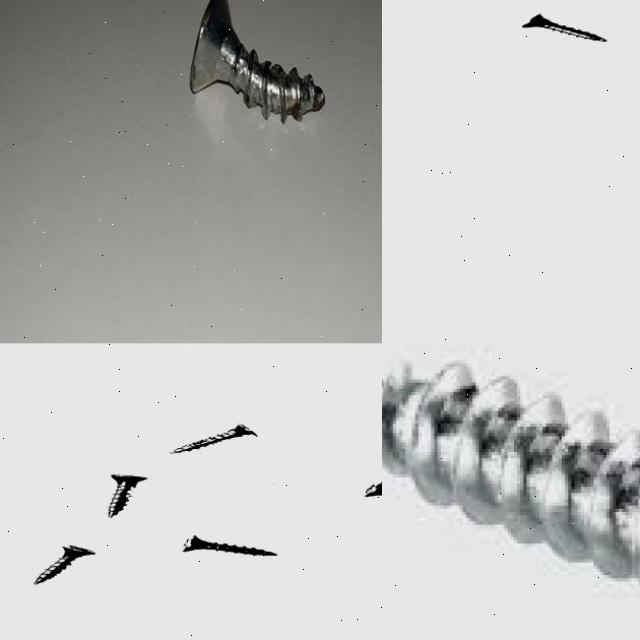Screw: (382, 360, 640, 583), (191, 0, 325, 122), (169, 424, 257, 453), (32, 546, 94, 585), (520, 14, 605, 41), (182, 536, 276, 556), (106, 474, 146, 518), (365, 482, 382, 497)
